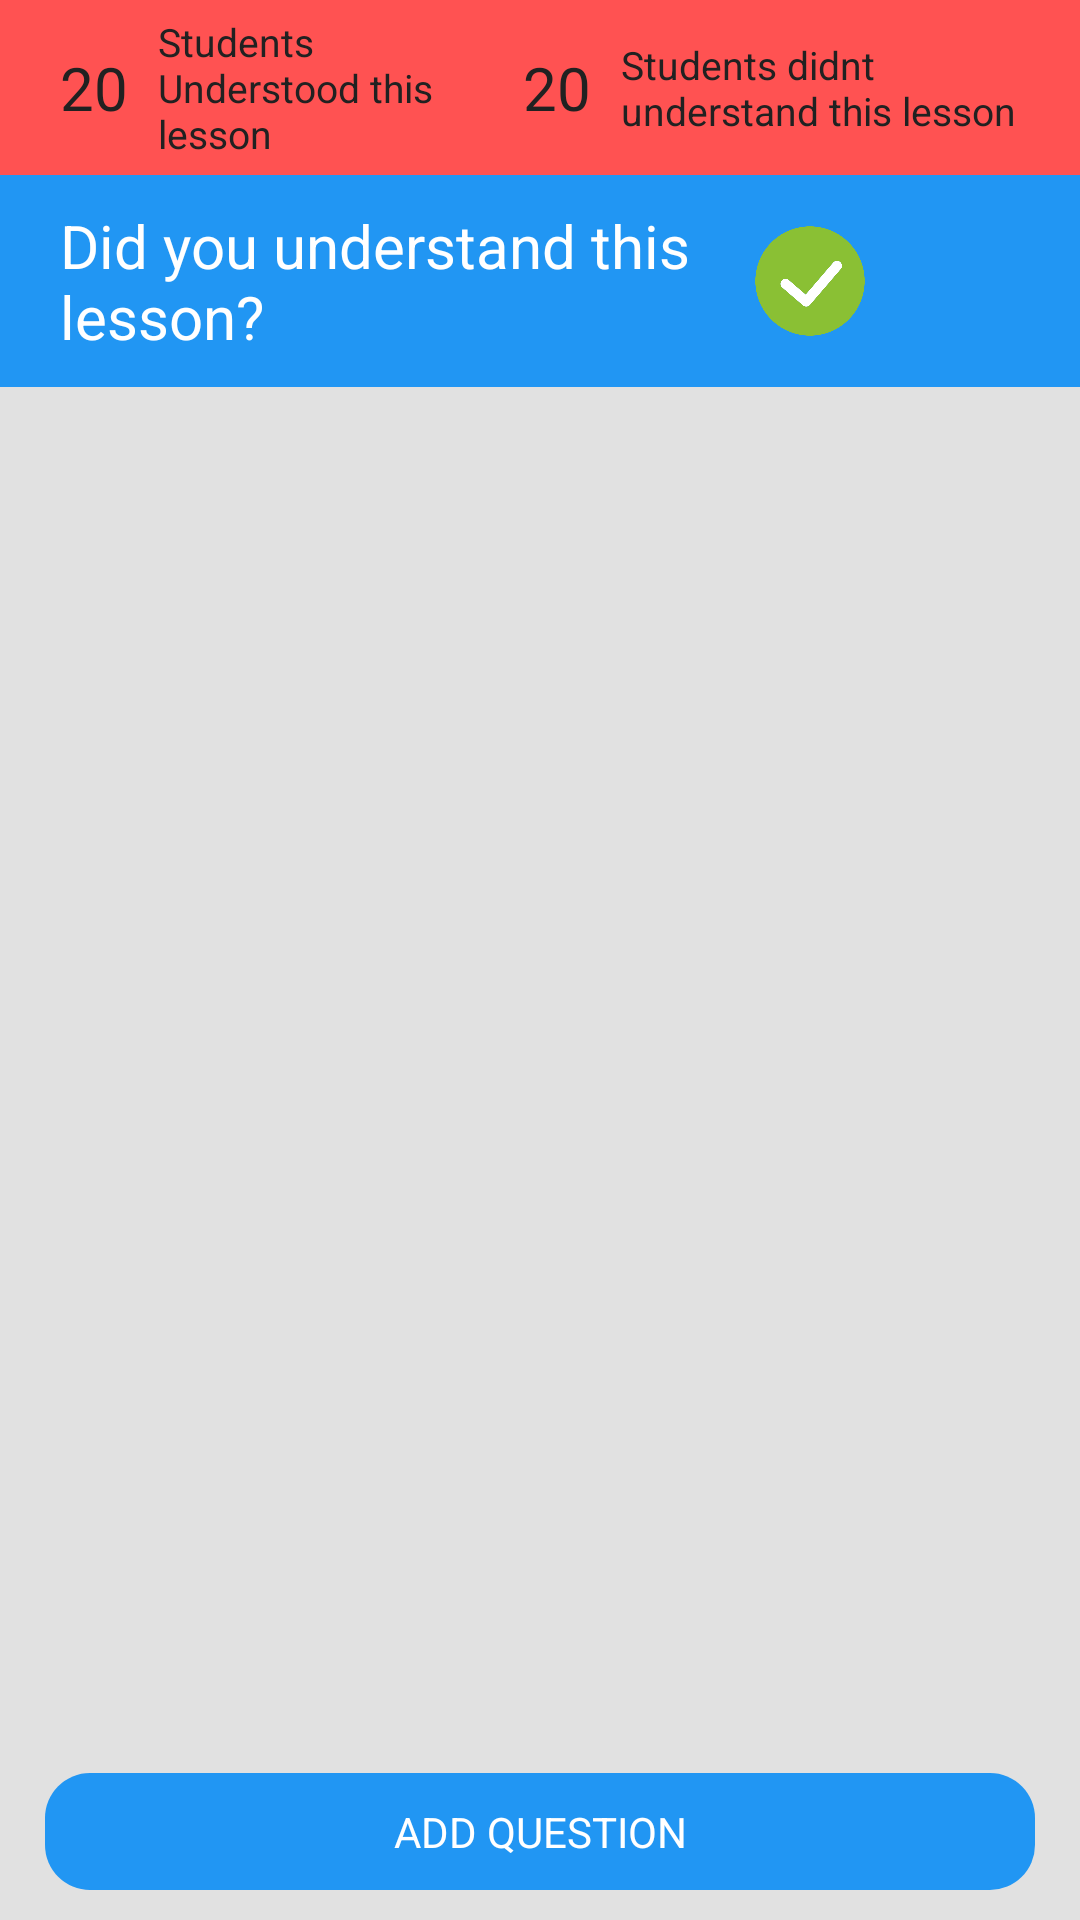

Icon click points for this 1080px x 1920px phone screenshot, format [x,y]:
yes: [810,281]
